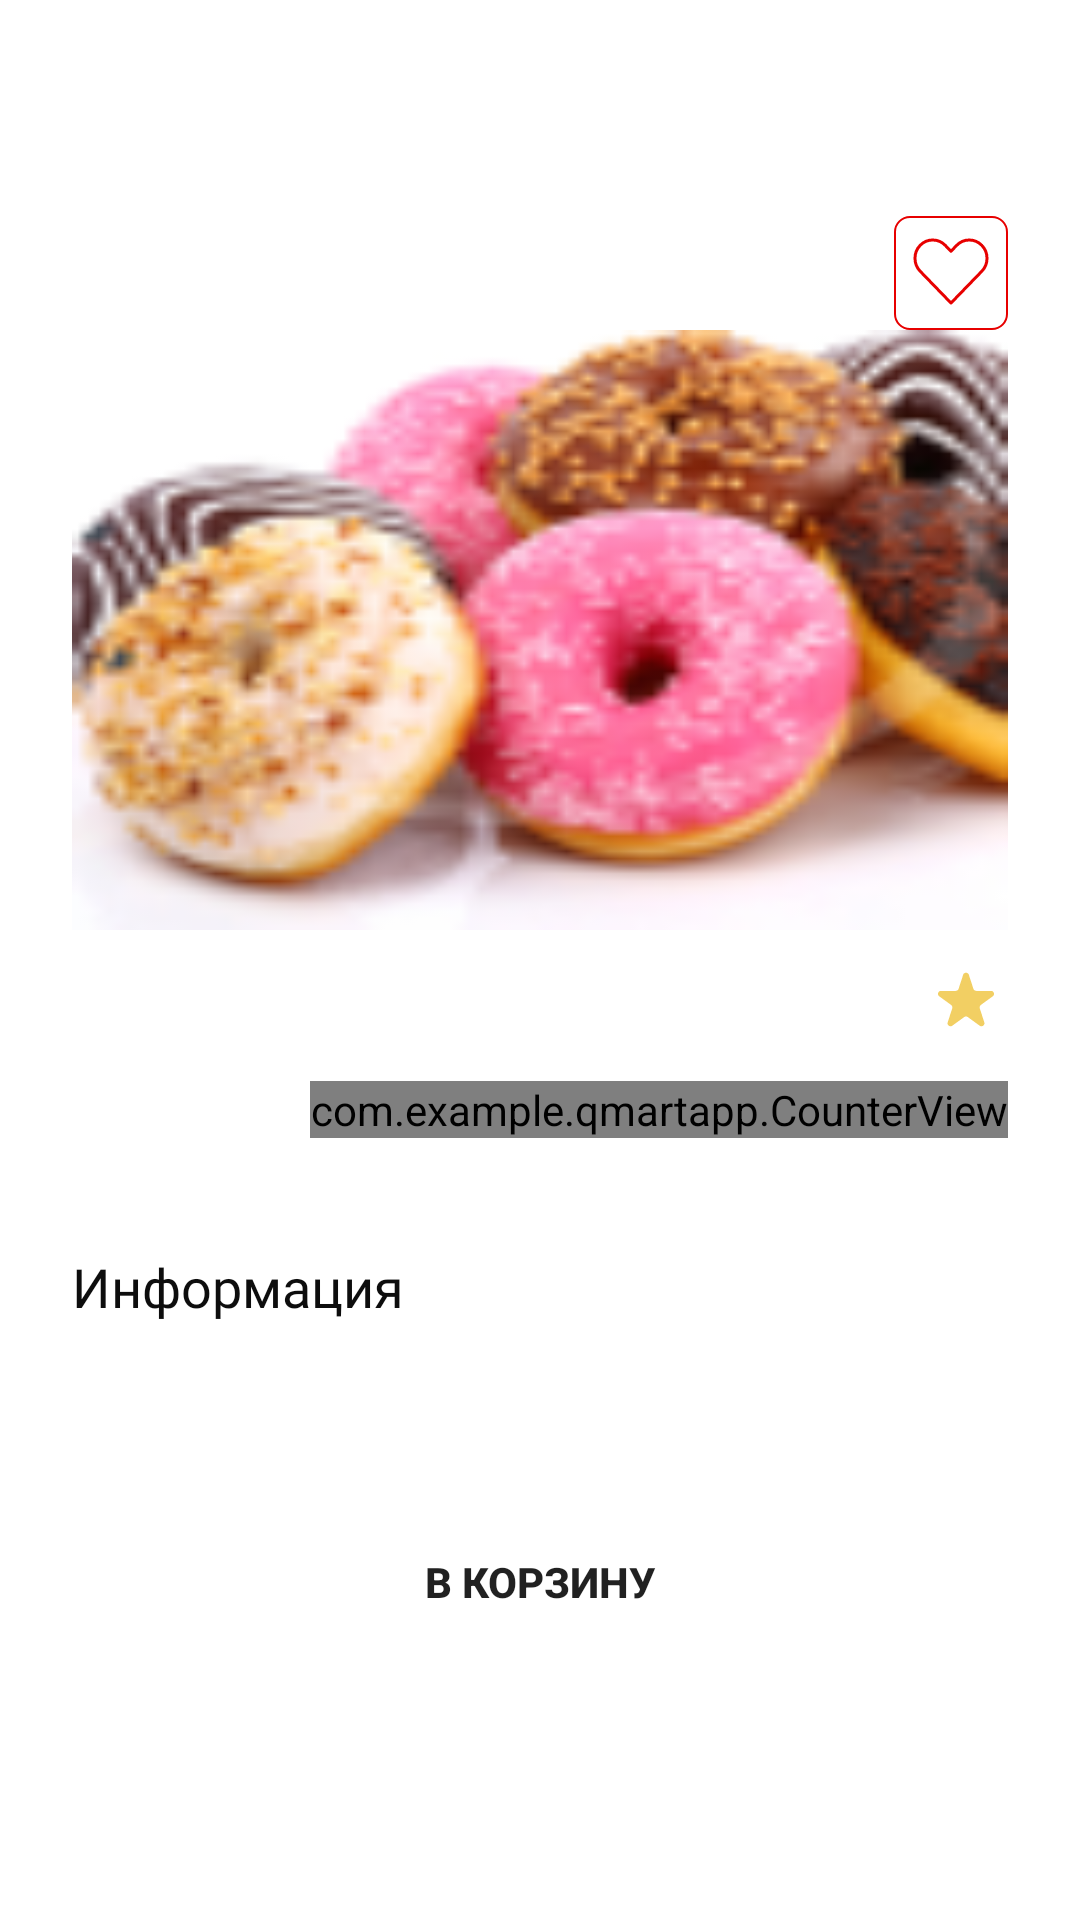

Screen size 1080*1920. Icon name, then its center in pixels as (x,y):
fav: (951,273)
star: (966,999)
